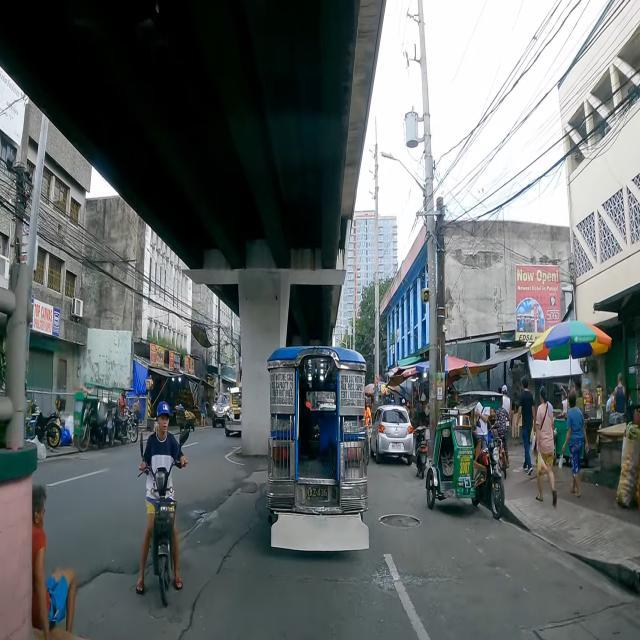bike: (364, 394, 374, 466)
car: (370, 404, 414, 466), (212, 392, 230, 428)
jeepney: (268, 347, 369, 553), (224, 386, 242, 438)
motorcycle: (134, 401, 190, 610), (24, 394, 67, 448), (118, 389, 140, 444), (413, 426, 430, 479)
tricycle: (424, 391, 506, 522), (72, 382, 112, 454), (97, 386, 135, 446)
